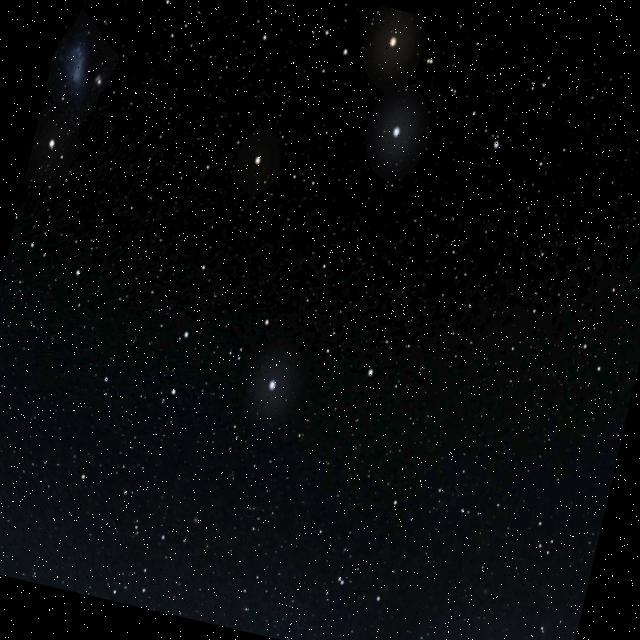Indus: (256, 250, 396, 378)
